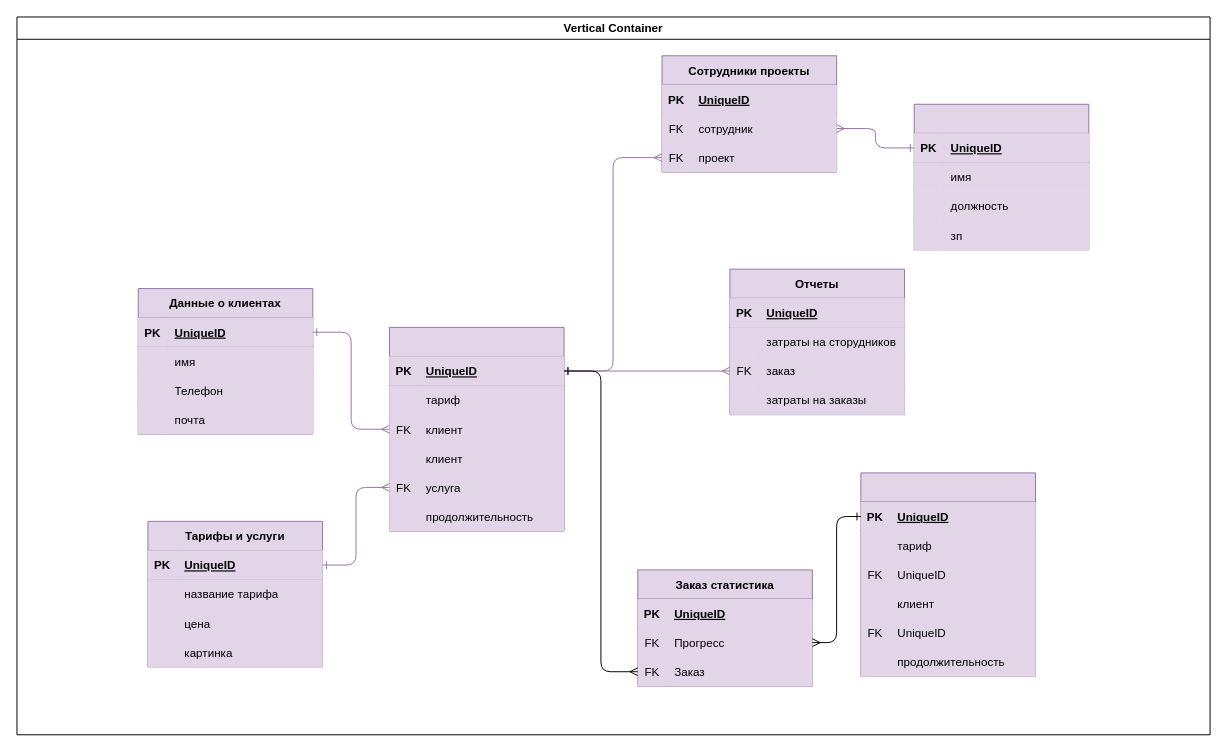
This 1227x752 diagram has some shape labels left out. The shapes that lost their labels are listed below. From the top down, each one's box as (x1, y1, x2, y2) in pixels, then its label:
(913, 103, 1089, 250): Сотрудники
(388, 326, 564, 531): Данные о заказах
(860, 472, 1035, 677): Прогресс работы по дням
